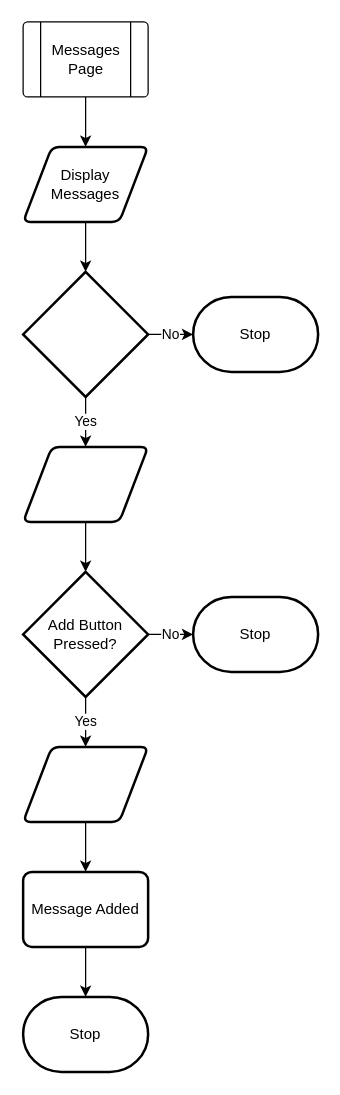
The diagram is 340 pixels wide and 1095 high, and some of its shapes have lost their labels. Each missing label, with the box of its shape:
Show Add Message Button: (21, 445, 149, 522)
User Fills In Form: (21, 745, 149, 822)
User has admin role?: (21, 270, 149, 398)
